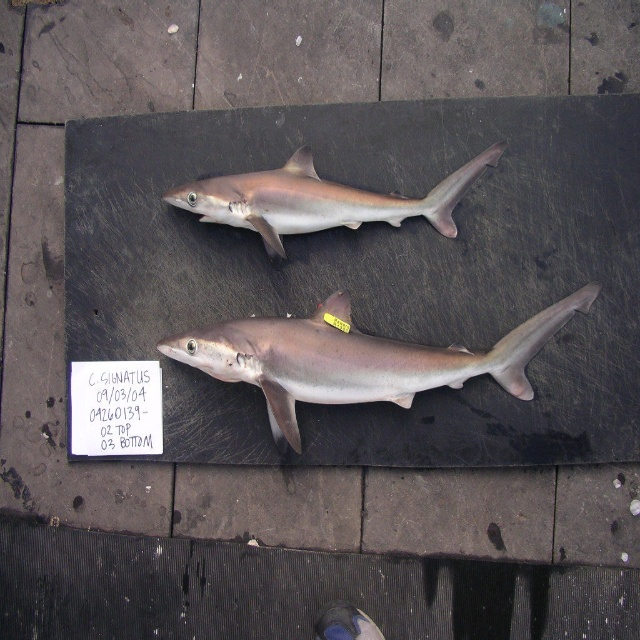Shark: (157, 288, 601, 460), (167, 128, 506, 269)
